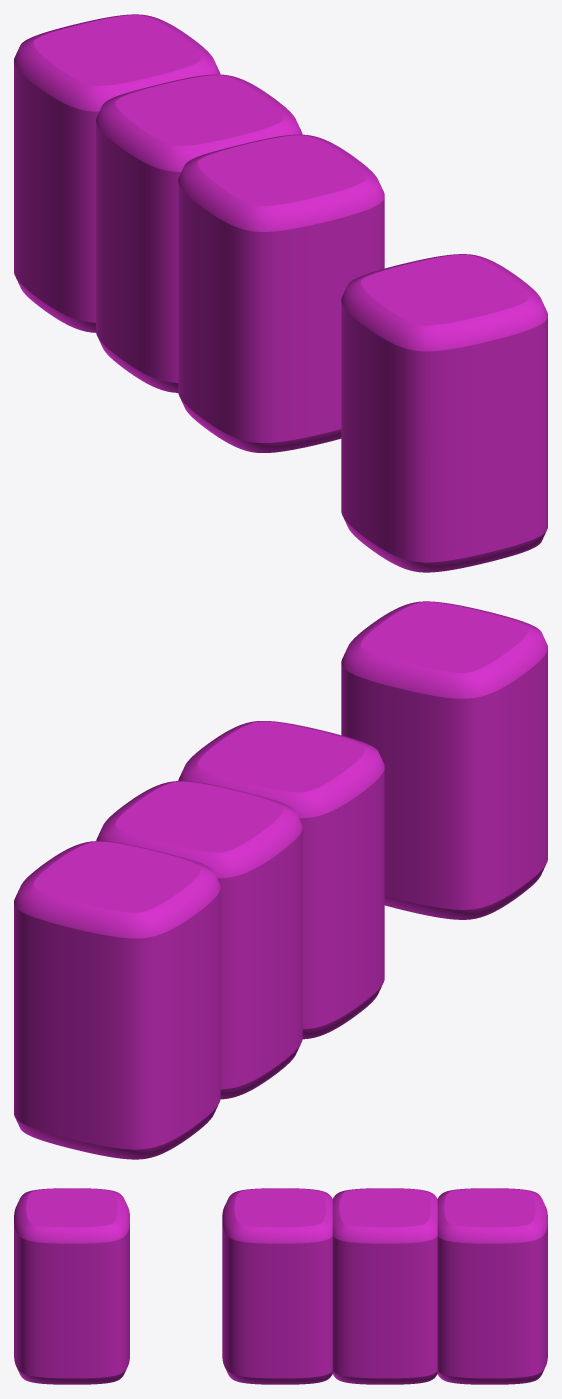
File: Letter_i_Small.fbx
The picture shows the model from 3 angles, top to bottom: view 1: azimuth 30°, elevation 25°; view 2: azimuth 150°, elevation 25°; view 3: azimuth 270°, elevation 25°; orthographic projection. The views are drawn at different scales.
Visible parts, largest first — view 1: Letter_i; view 2: Letter_i; view 3: Letter_i.
Boxes of the visible parts, x1,y1,x2,y2 form: Letter_i: (14,14,547,572); Letter_i: (14,601,547,1159); Letter_i: (14,1188,547,1384).
Bounding box in the file's own units: 0.0938 × 0.14 × 0.4311.
